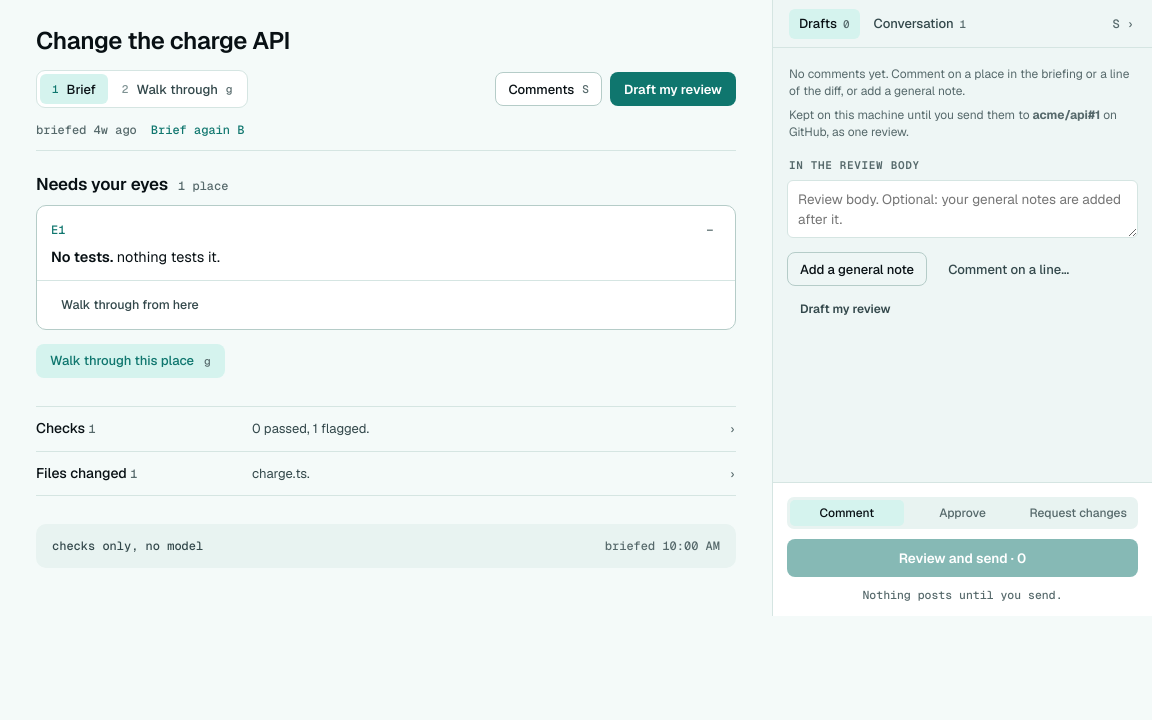
Scenario: Draft my review › never asks for a PR with text aimed at AI reviewers, and says why
Check: the text "No comments yet" is shown, box [789, 66, 1129, 99]
Click the 1st button "Draft my review" at point(673, 89), box [610, 72, 736, 106]
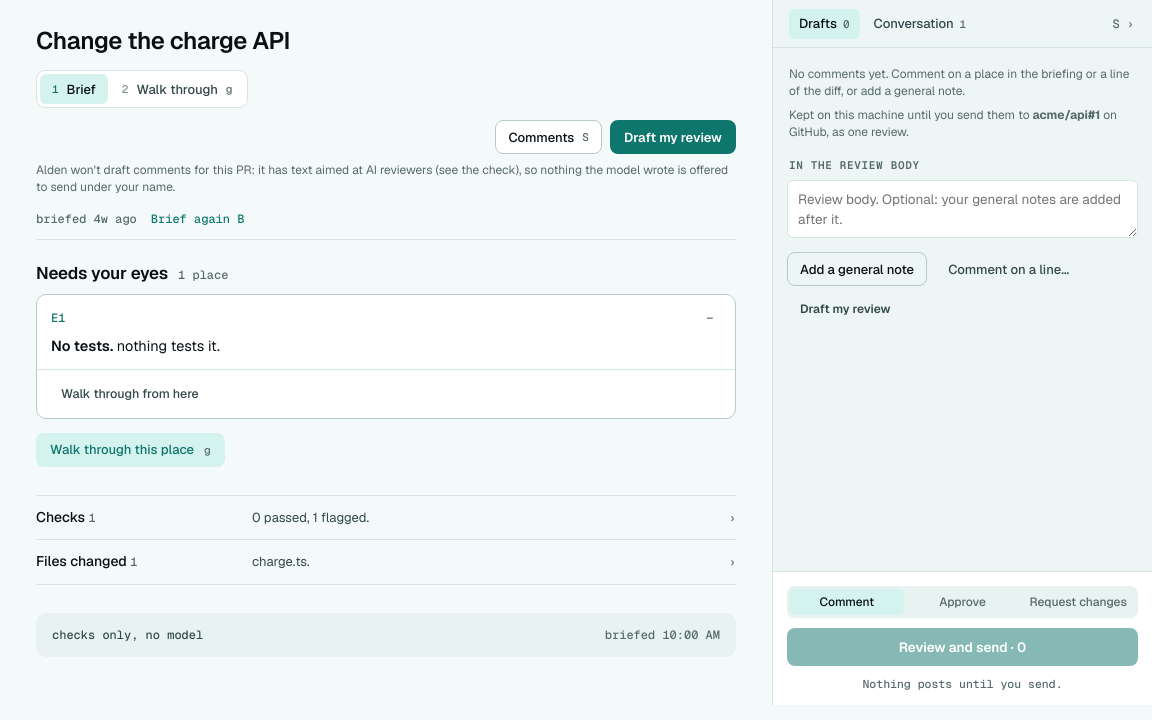
Check: the 1st message shows "Alden won't draft comments for this PR: it has text aimed at AI reviewers (see the check), so nothing the model wrote is offered to send under your name.", box [36, 162, 728, 195]
